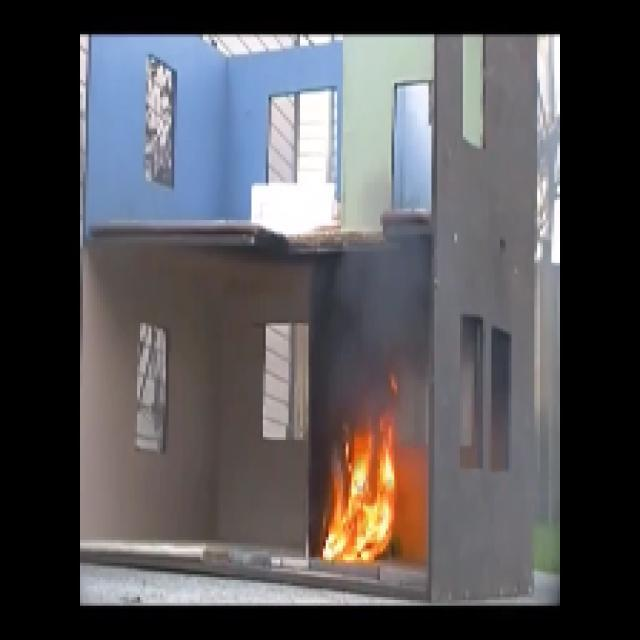Fire: (320, 426, 399, 561)
Smoke: (327, 262, 415, 372)
